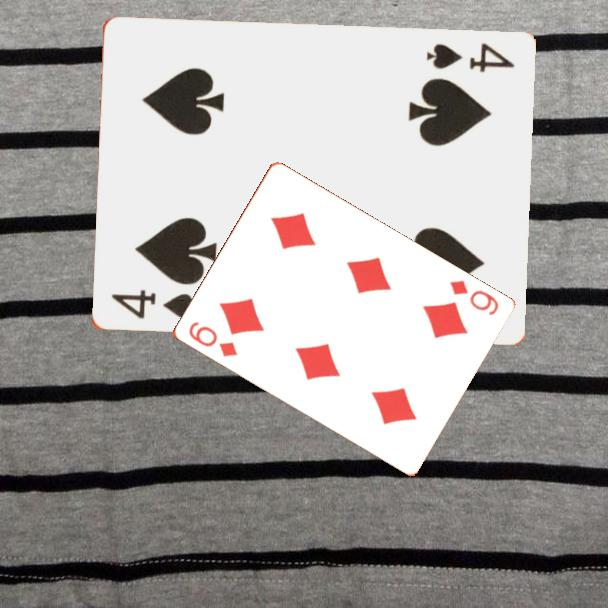d06: (184, 318, 240, 360), (445, 276, 501, 318)
s04: (422, 40, 517, 76), (108, 286, 201, 322)
